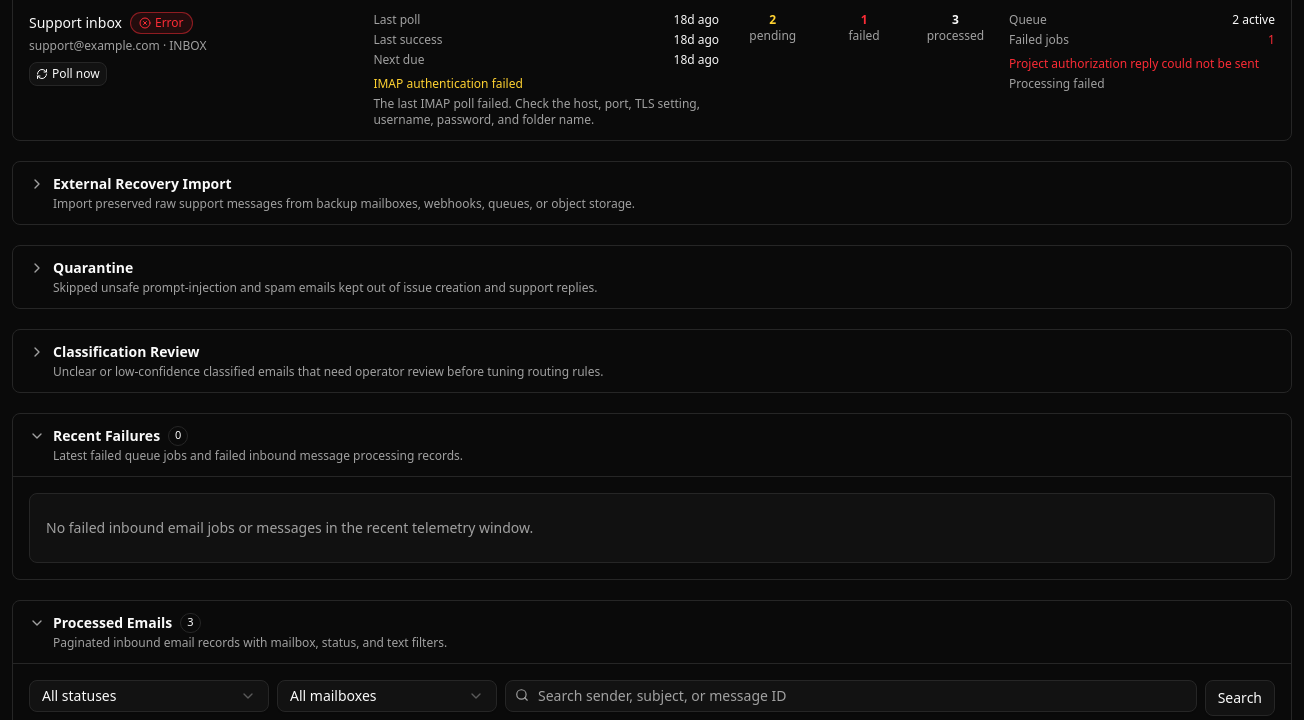
Test: InboundEmailOps › loads unclear and low-confidence emails in the classification review panel
This screenshot has width=1304, height=720.
(page scrolled)
Click the button that starts with "Classification Review". click: click(126, 351)
box: [13,330,1291,392]
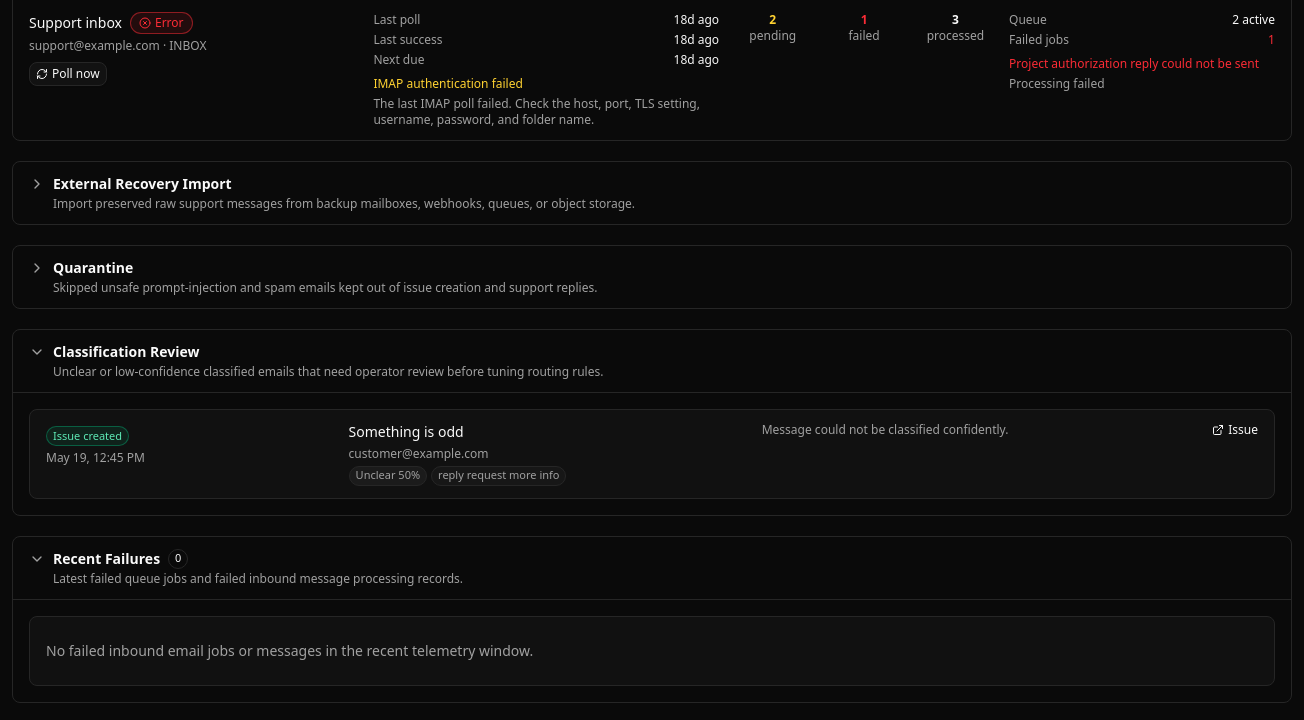
Now the text "Something is odd" is shown, box [349,422,464,440]
Now the text "Unclear 50%" is shown, box [349,466,427,486]
Now the text "Message could not be classified confidently." is shown, box [762,420,1008,438]
